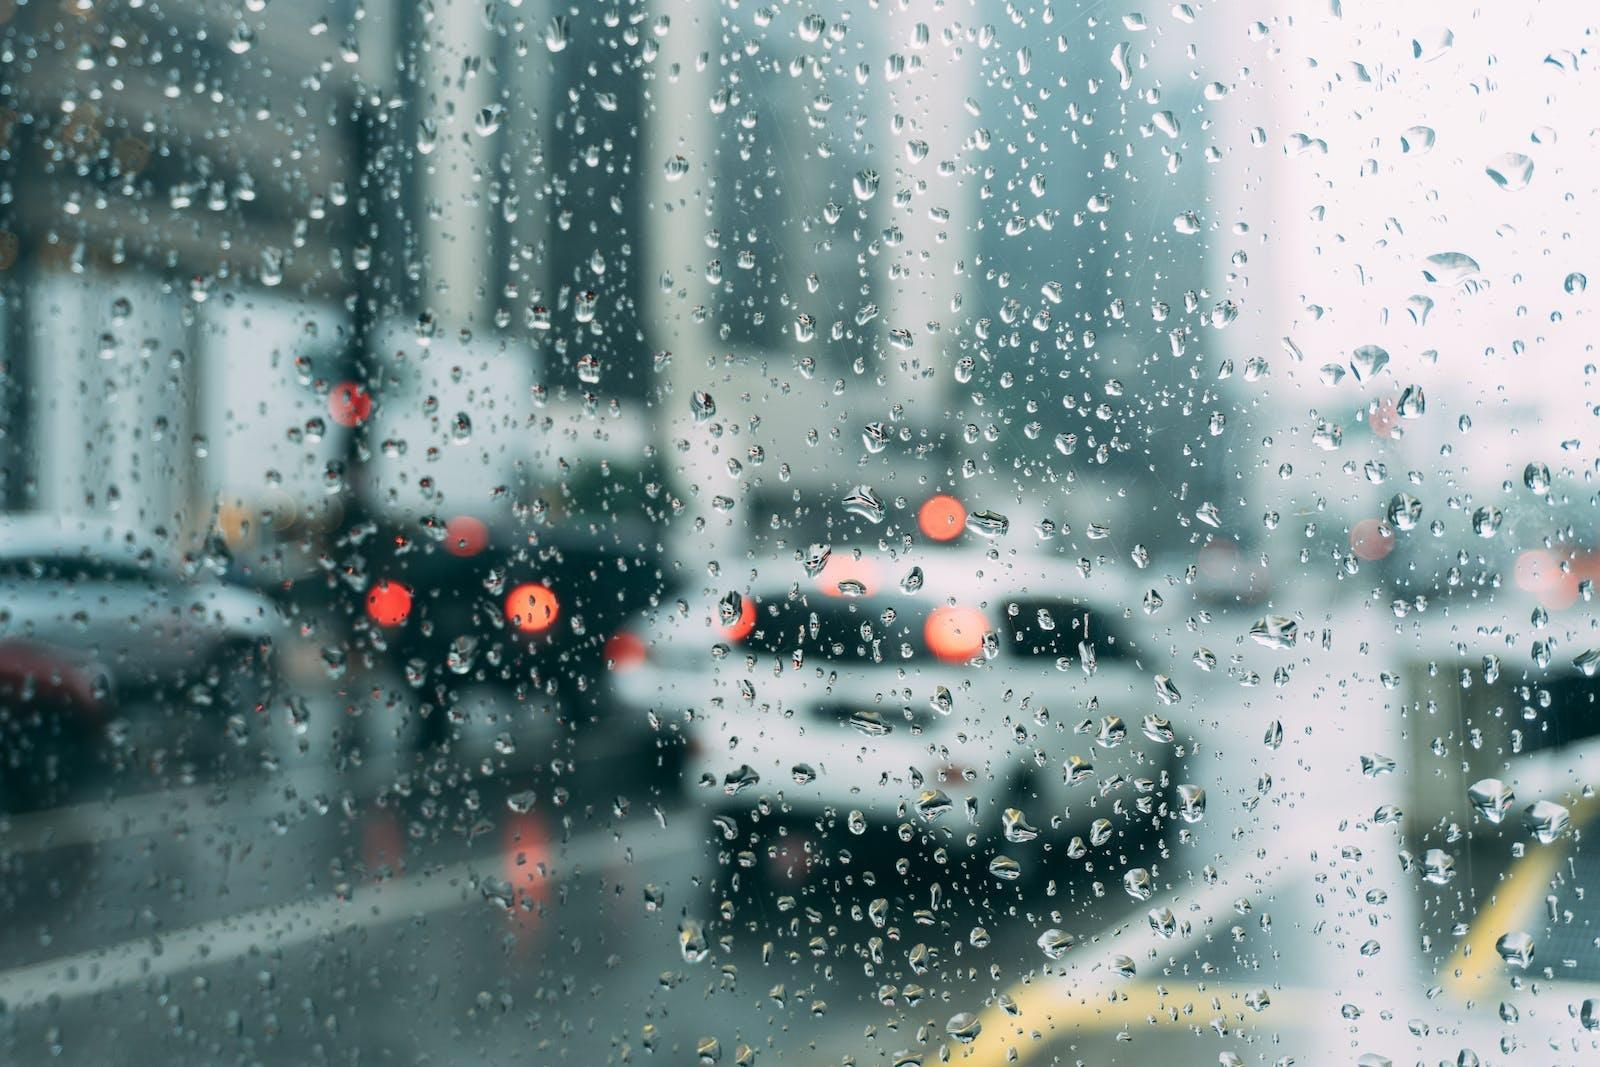road: (0, 728, 1052, 1066)
